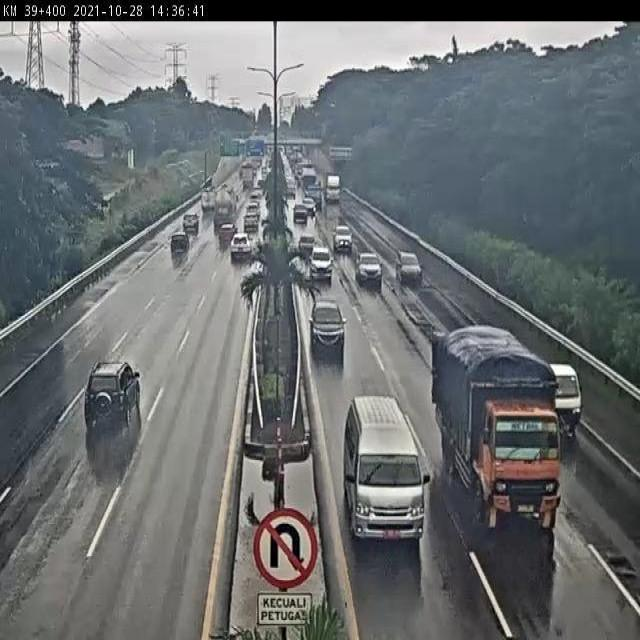bus-s-: (344, 393, 429, 544)
car: (538, 360, 584, 437)
truck-m-: (429, 324, 559, 531)
